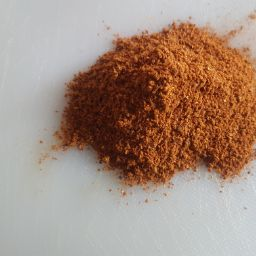Cinemon powder: (58, 21, 256, 204), (80, 17, 256, 180)
